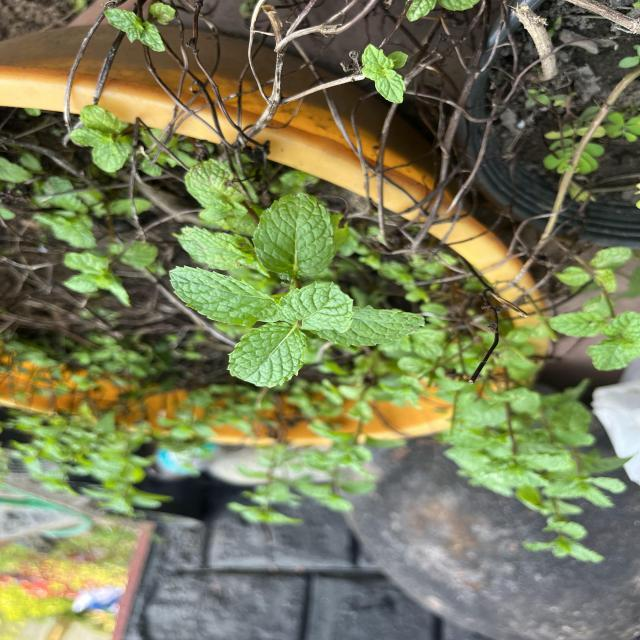Mentha spicata: (250, 190, 336, 276), (168, 264, 282, 327), (225, 321, 308, 388), (276, 280, 355, 334)
